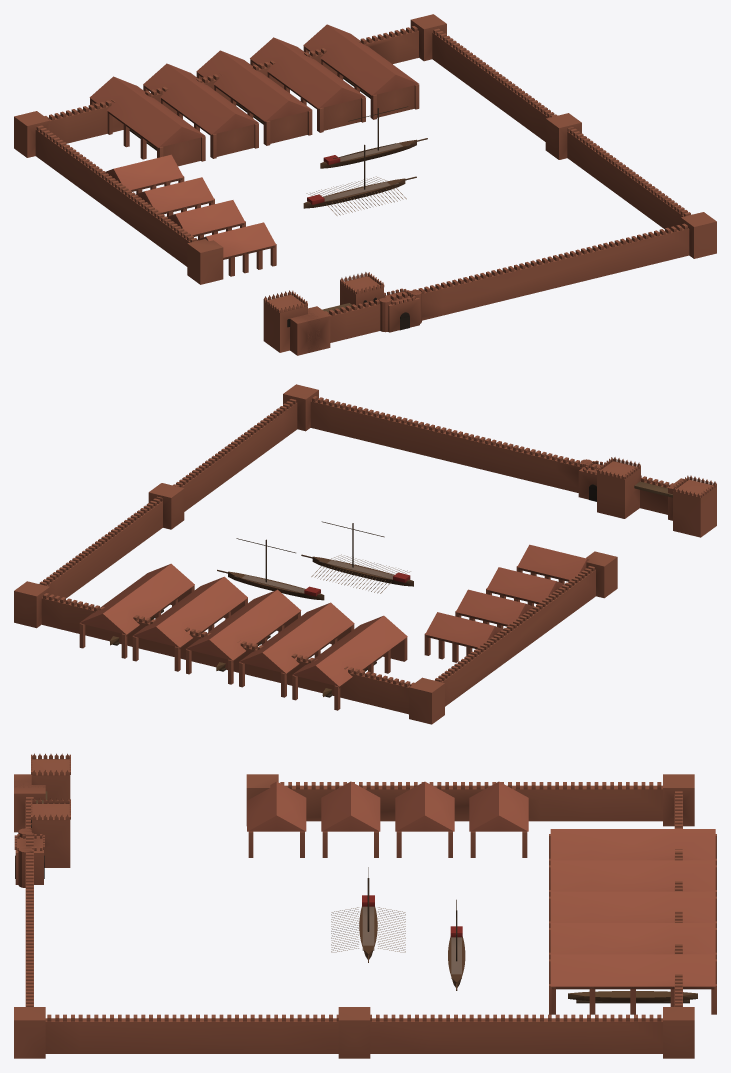
The model's file is arsenale-1204.glb.
3 renders of one model, top to bottom at view 1: azimuth 30°, elevation 25°; view 2: azimuth 150°, elevation 25°; view 3: azimuth 270°, elevation 25°, orthographic. The views are drawn at different scales.
Parts seen in each view (by area): view 1: p1_gates, p2_slipways, p3_galleys; view 2: p1_gates, p2_slipways, p3_galleys; view 3: p1_gates, p2_slipways, p3_galleys.
Part boxes in pixels (box(x1,y1,x2,y2)): p1_gates: box(14, 14, 716, 355); p2_slipways: box(89, 24, 419, 276); p3_galleys: box(303, 106, 427, 215); p1_gates: box(14, 384, 716, 724); p2_slipways: box(79, 544, 589, 710); p3_galleys: box(217, 521, 413, 600); p1_gates: box(14, 753, 694, 1058); p2_slipways: box(247, 781, 716, 1014); p3_galleys: box(331, 867, 465, 990).
Size of what is drawn, in the model's own units: 169 by 18.95 by 199.
